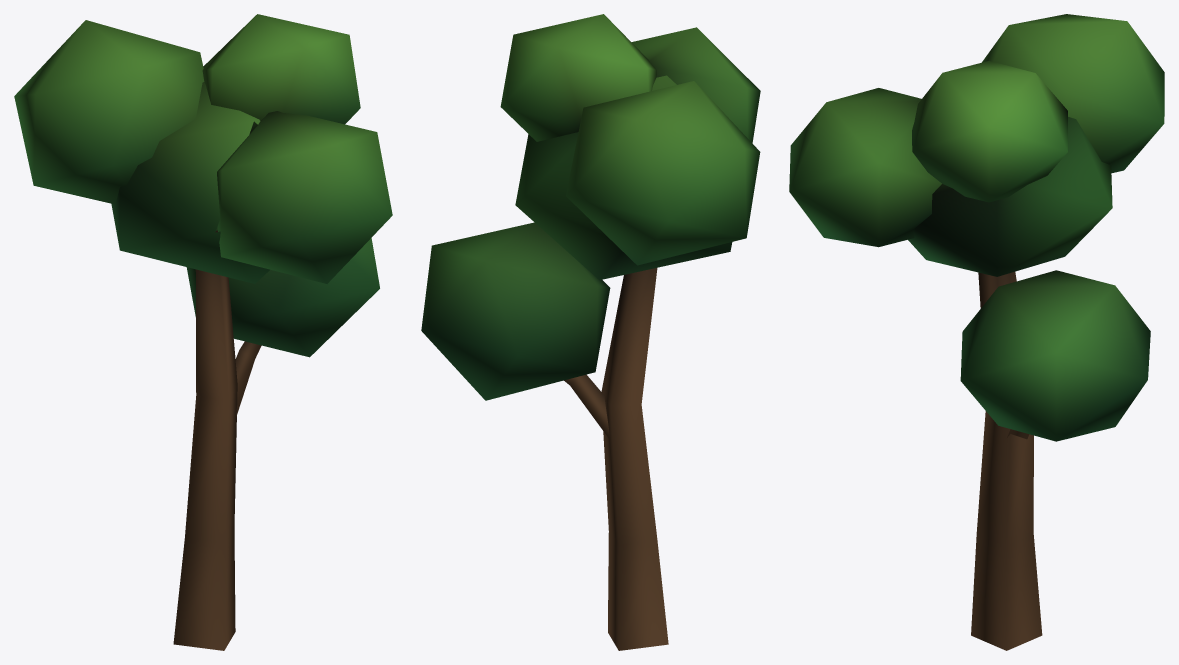
The model's file is tree-sapling-low.glb.
3 renders of one model, left to right at view 1: azimuth 30°, elevation 25°; view 2: azimuth 150°, elevation 25°; view 3: azimuth 270°, elevation 25°, orthographic. The views are drawn at different scales.
Visible parts, largest first — view 1: 1_leaves, 0_trunk; view 2: 1_leaves, 0_trunk; view 3: 1_leaves, 0_trunk.
Boxes of the visible parts, box(x1,y1,x2,y2) form: 1_leaves: box(14, 14, 392, 357); 0_trunk: box(173, 230, 261, 650); 1_leaves: box(421, 14, 760, 400); 0_trunk: box(564, 268, 668, 650); 1_leaves: box(789, 14, 1164, 441); 0_trunk: box(971, 271, 1042, 650).
Bounding box in the file's own units: 0.7886 × 1.38 × 0.7891.
